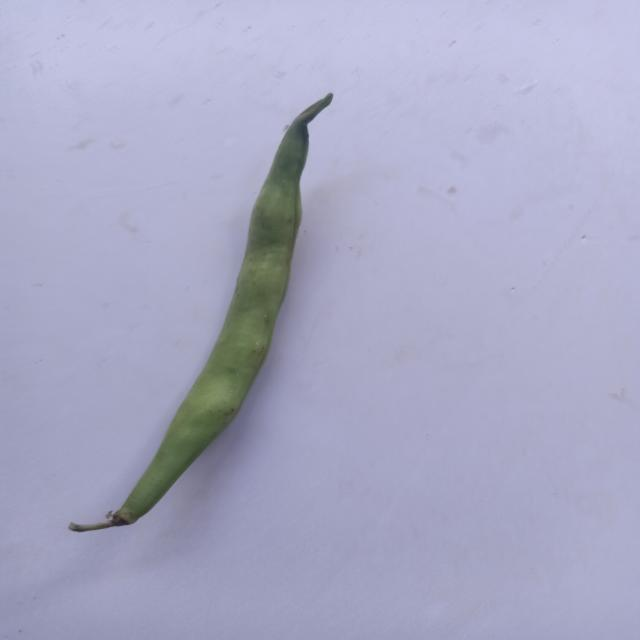Beans: (52, 86, 339, 562)
